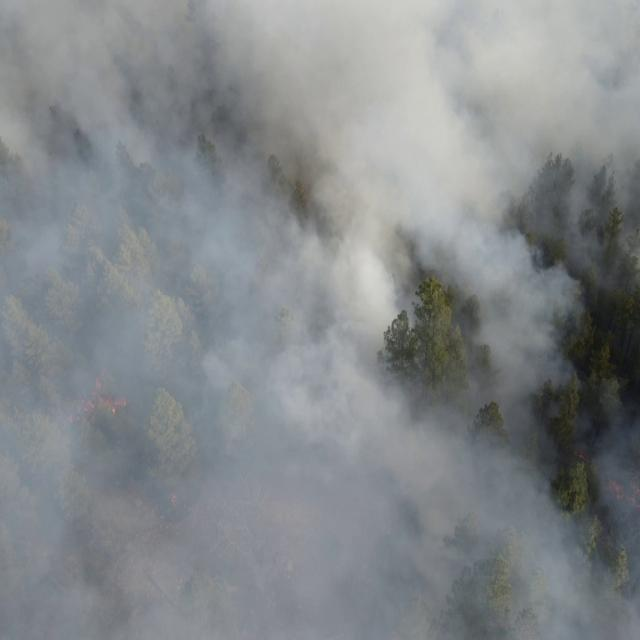fire: (67, 374, 129, 425), (602, 474, 640, 517), (572, 448, 590, 463), (168, 493, 182, 507)
smoke: (0, 0, 640, 640)
